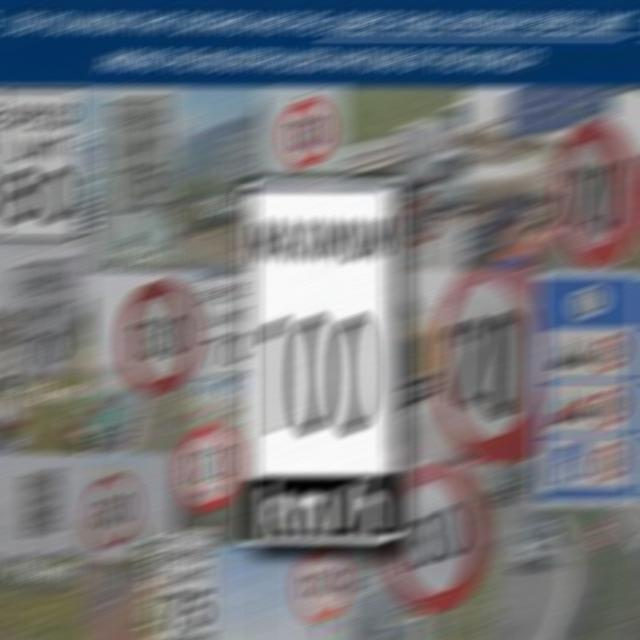speedLimit70: (15, 254, 82, 380), (196, 277, 250, 370)
speedLimit75: (100, 101, 173, 219), (161, 532, 214, 632), (219, 124, 252, 183)
speedLimit80: (0, 98, 81, 235)
